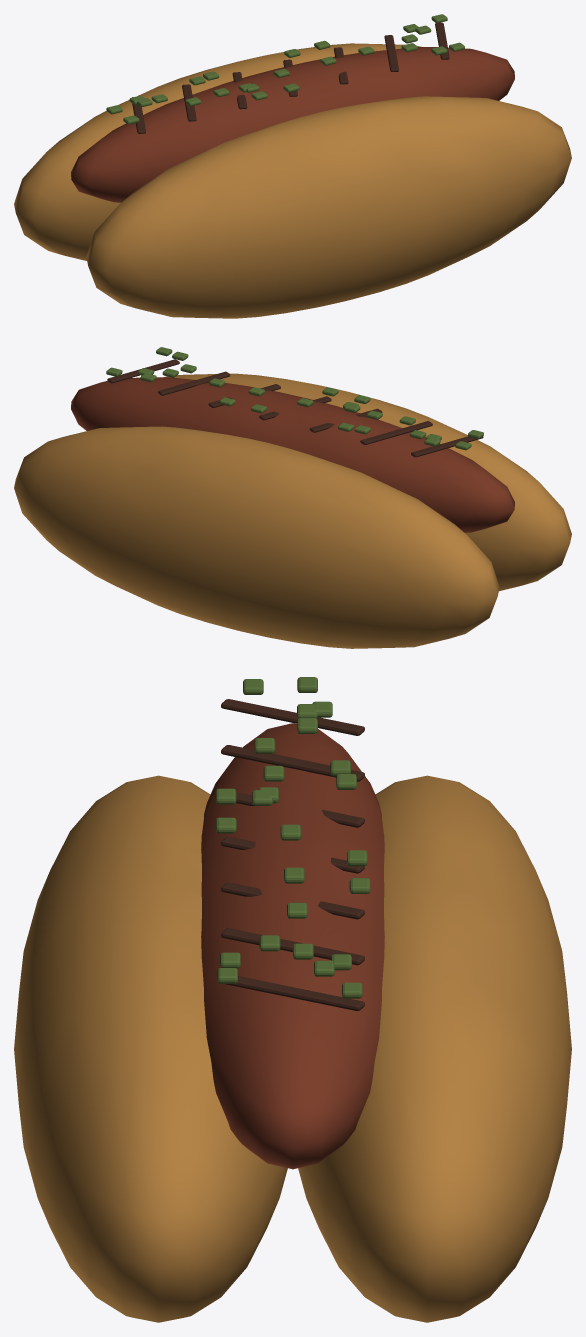
Rendered from food_choripan_runtime.glb.
The picture shows the model from 3 angles, top to bottom: view 1: azimuth 30°, elevation 25°; view 2: azimuth 150°, elevation 25°; view 3: azimuth 270°, elevation 25°; orthographic projection. The views are drawn at different scales.
Parts seen in each view (by area): view 1: Crust; view 2: Crust; view 3: Crust.
Boxes of the visible parts, x1,y1,x2,y2 form: Crust: (14, 14, 571, 318); Crust: (14, 347, 571, 648); Crust: (14, 677, 571, 1322).
Bounding box in the file's own units: 1 × 0.404 × 0.54.
